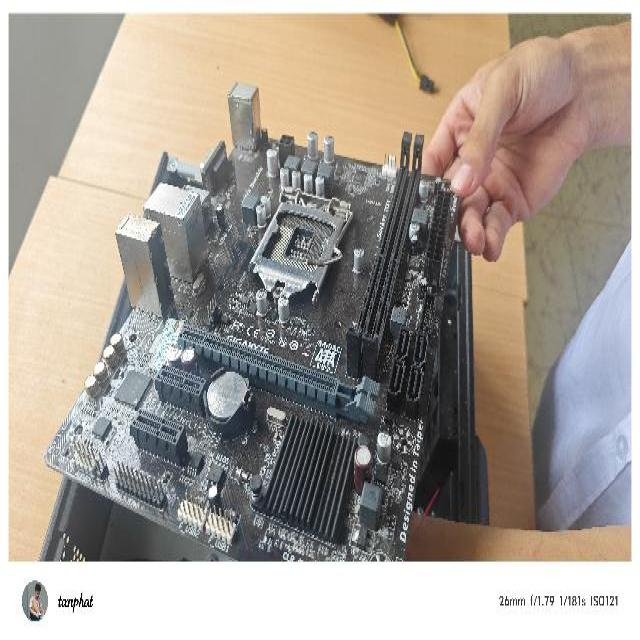Mainboard: (43, 67, 460, 562)
